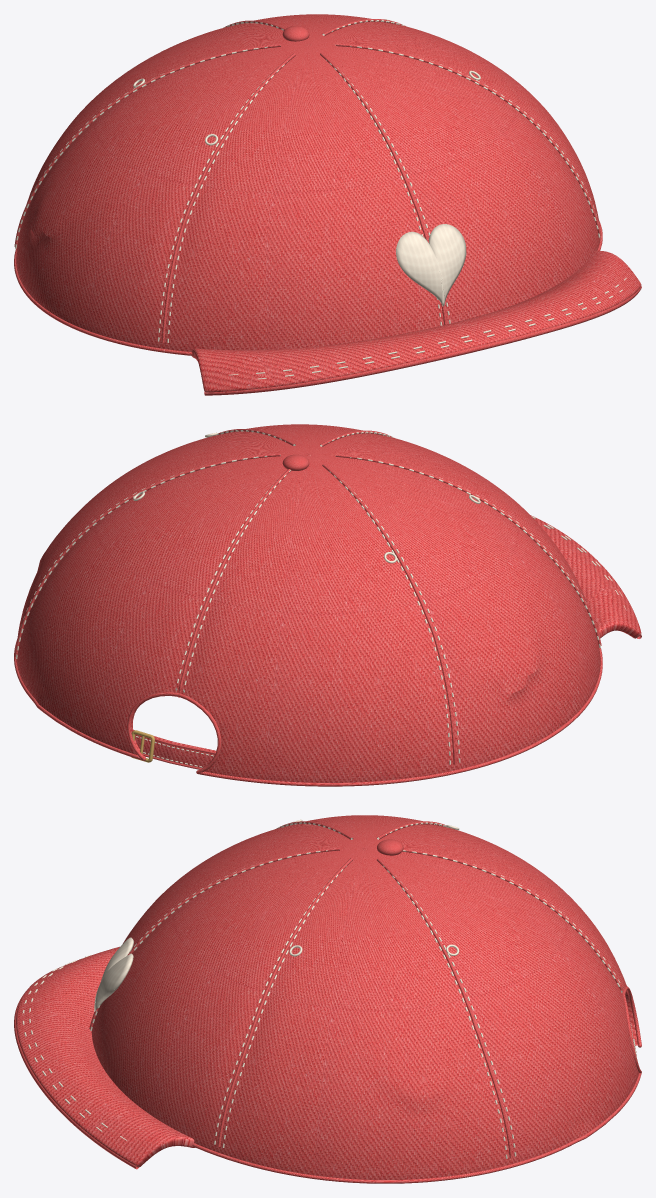
Rendered from restart_cap_pink_pig.glb.
3 renders of one model, top to bottom at view 1: azimuth 30°, elevation 25°; view 2: azimuth 150°, elevation 25°; view 3: azimuth 270°, elevation 25°, orthographic.
Visible parts, largest first — view 1: Gorra corazón - algodón cosido original; view 2: Gorra corazón - algodón cosido original; view 3: Gorra corazón - algodón cosido original.
Boxes of the visible parts, x1=… form: Gorra corazón - algodón cosido original: x1=14, y1=14, x2=641, y2=395; Gorra corazón - algodón cosido original: x1=14, y1=424, x2=641, y2=786; Gorra corazón - algodón cosido original: x1=14, y1=815, x2=641, y2=1183.
Size of the model in its own units: 0.8485 by 0.347 by 0.8888.
4 materials, 2 textured.
